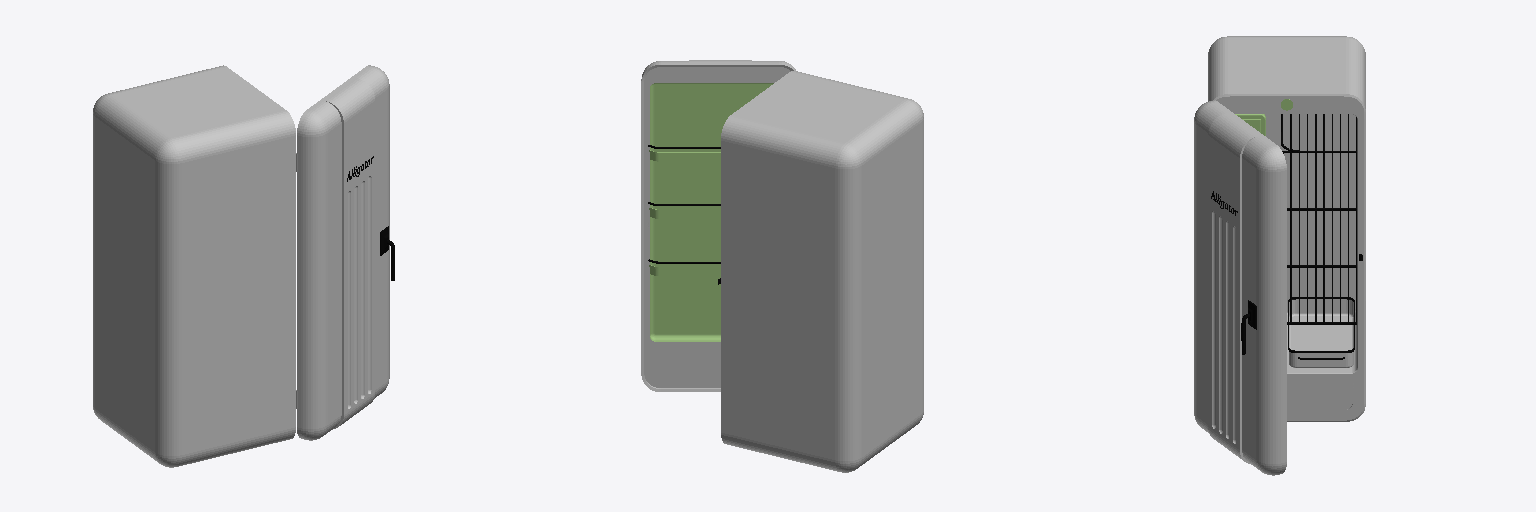
3 views of the same model, side by side, from view 1: azimuth 30°, elevation 25°; view 2: azimuth 150°, elevation 25°; view 3: azimuth 270°, elevation 25° (orthographic).
Parts seen in each view (by area): view 1: Base, Door; view 2: Base, Door, DoorShelfTop, DoorShelfBot, DoorShelfMid; view 3: Door, Base, Drawer_Draver, WireShelf_2, WireShelf_1, WireShelf_3, WireShelf_4.
Boxes of the visible parts, x1=… form: Base: x1=93, y1=65, x2=295, y2=467; Door: x1=297, y1=65, x2=389, y2=440; Base: x1=721, y1=71, x2=923, y2=472; Door: x1=641, y1=60, x2=795, y2=391; DoorShelfTop: x1=648, y1=145, x2=720, y2=161; DoorShelfBot: x1=648, y1=259, x2=720, y2=275; DoorShelfMid: x1=648, y1=202, x2=720, y2=218; Door: x1=1194, y1=100, x2=1286, y2=475; Base: x1=1208, y1=36, x2=1365, y2=421; Drawer_Draver: x1=1288, y1=297, x2=1354, y2=367; WireShelf_2: x1=1287, y1=210, x2=1356, y2=267; WireShelf_1: x1=1287, y1=268, x2=1356, y2=324; WireShelf_3: x1=1282, y1=151, x2=1356, y2=209; WireShelf_4: x1=1281, y1=114, x2=1356, y2=152.
Bounding box in the file's own units: 1.16 × 1.43 × 0.6792.
2 materials, 1 textured.